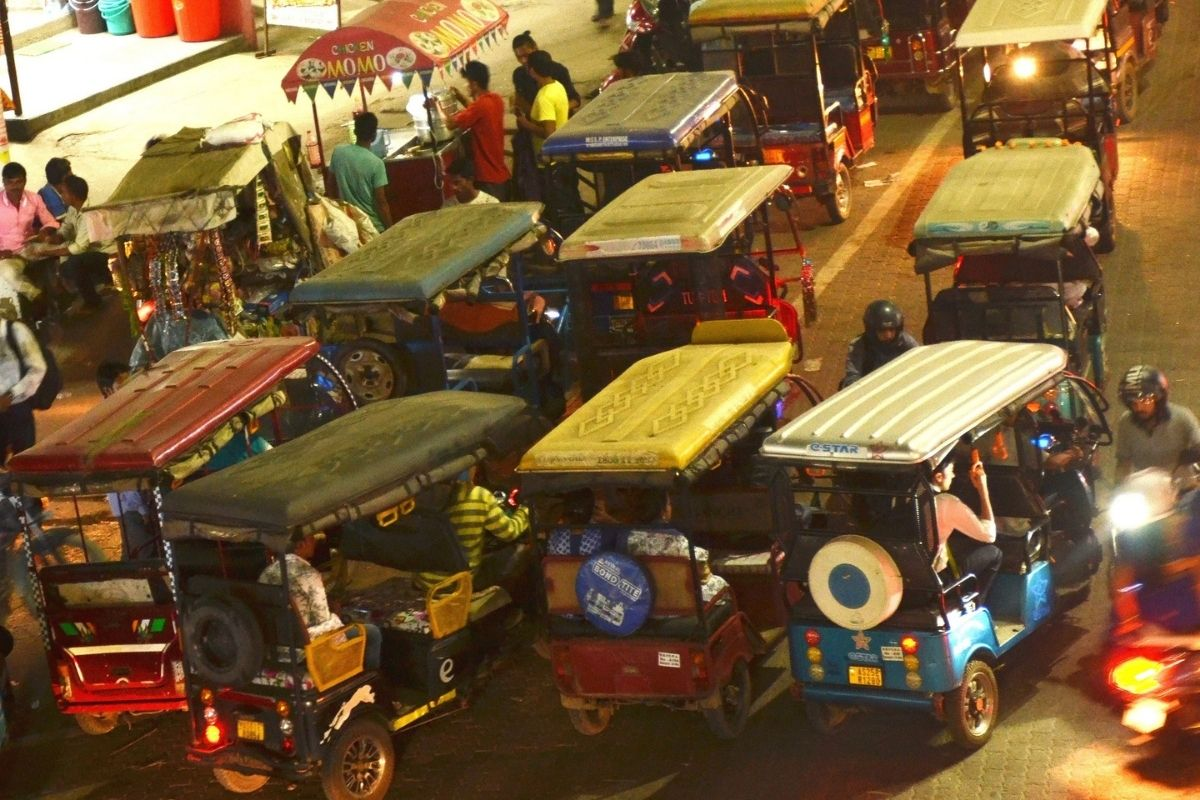bike: (1105, 362, 1195, 800), (604, 2, 682, 81)
rickshaw: (770, 356, 1121, 731), (205, 383, 518, 796), (4, 331, 327, 702), (545, 350, 794, 724), (678, 4, 907, 202), (920, 146, 1123, 361), (577, 166, 821, 343), (308, 215, 562, 365), (947, 3, 1145, 164), (563, 61, 783, 178)
